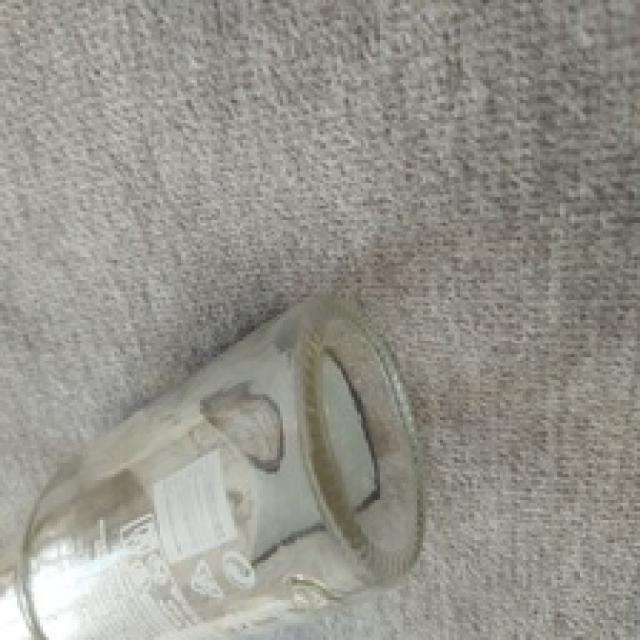Glass: (0, 296, 428, 640)
